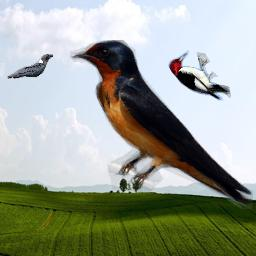Crow: (7, 54, 53, 79)
Swallow: (70, 40, 253, 209)
Woodpecker: (162, 50, 233, 103)
